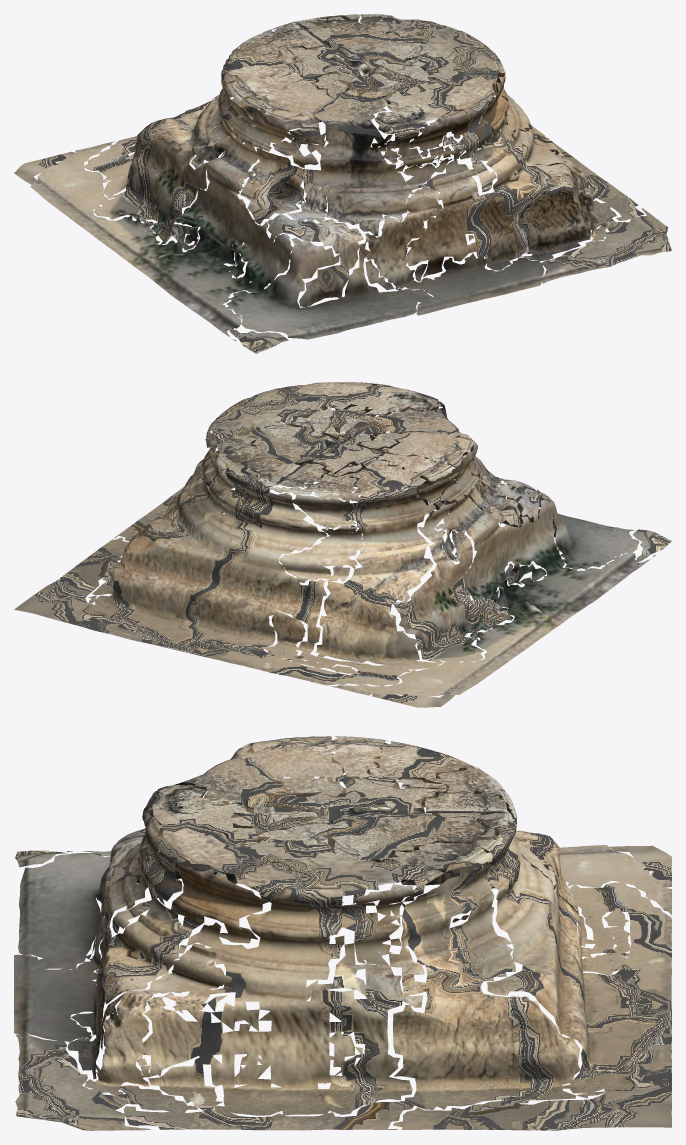
The model's file is statue-plinth.glb.
3 renders of one model, top to bottom at view 1: azimuth 30°, elevation 25°; view 2: azimuth 150°, elevation 25°; view 3: azimuth 270°, elevation 25°, orthographic. The views are drawn at different scales.
Visible parts, largest first — view 1: Object_3, Object_4, Object_2; view 2: Object_2, Object_3, Object_4; view 3: Object_2, Object_3, Object_4.
Part boxes in pixels (x1=…): Object_3: x1=103, y1=16, x2=644, y2=339; Object_4: x1=30, y1=14, x2=607, y2=340; Object_2: x1=14, y1=14, x2=671, y2=353; Object_2: x1=14, y1=382, x2=671, y2=707; Object_3: x1=88, y1=385, x2=639, y2=669; Object_4: x1=216, y1=382, x2=655, y2=695; Object_2: x1=15, y1=740, x2=671, y2=1130; Object_3: x1=18, y1=736, x2=608, y2=1130; Object_4: x1=14, y1=736, x2=671, y2=1095.
Bounding box in the file's own units: 1.86 × 0.5805 × 1.84.
Materials: 1 (1 with a texture image).
